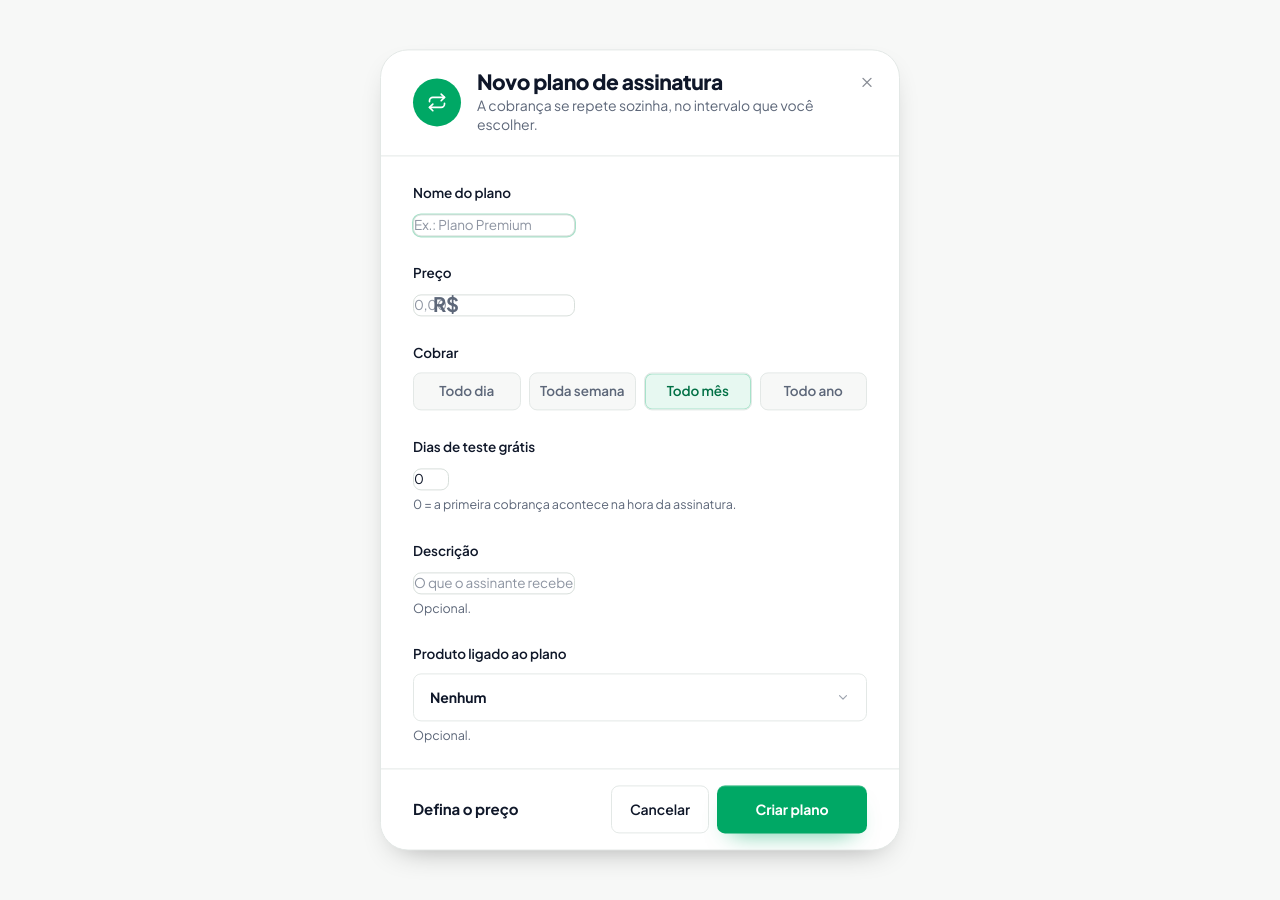
Scenario: NewPlanDialog › mostra os erros nos campos e não cria
Click the button "Criar plano": (792, 810) [717,786,867,834]
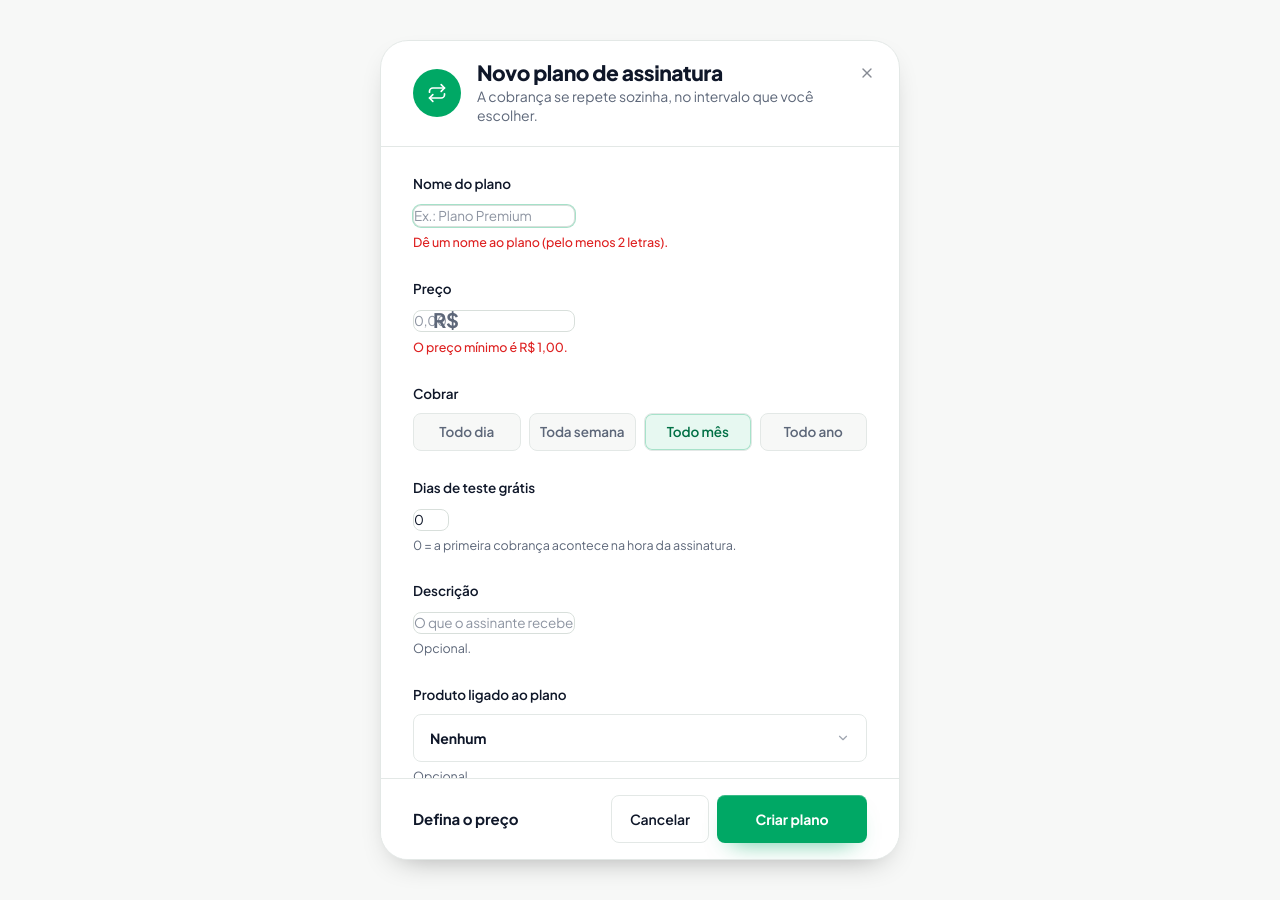
Expected: the text "Dê um nome ao plano (pelo menos 2 letras)." is shown, [413,234,668,250]
Expected: the text "O preço mínimo é R$ 1,00." is shown, [413,339,568,355]
